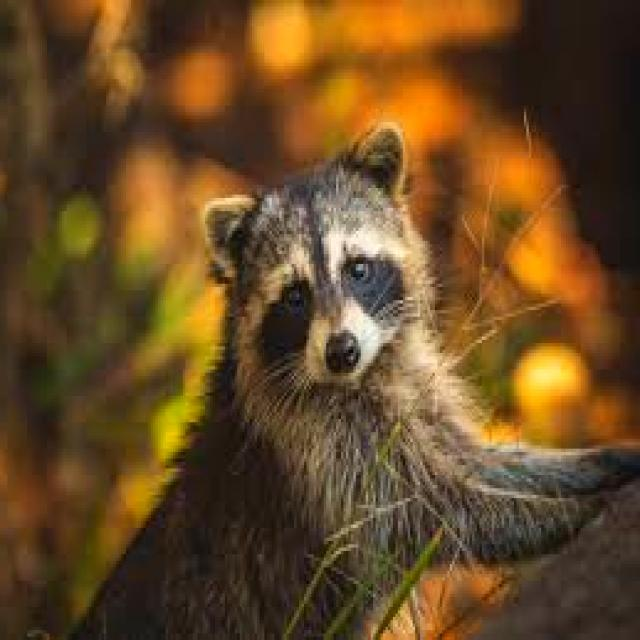raccoon: (82, 122, 640, 637)
